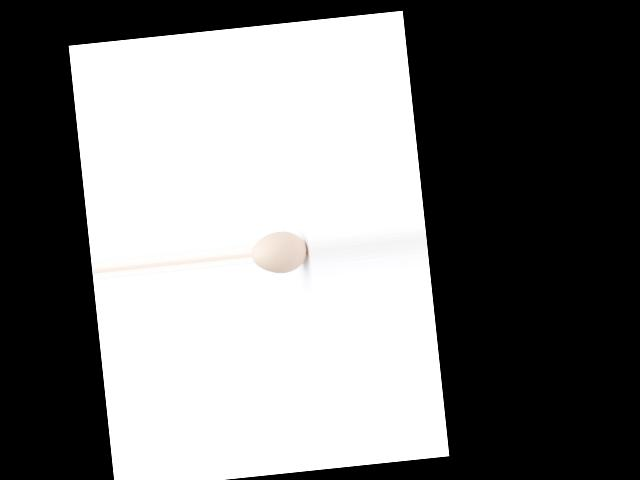egg: (250, 229, 309, 275)
